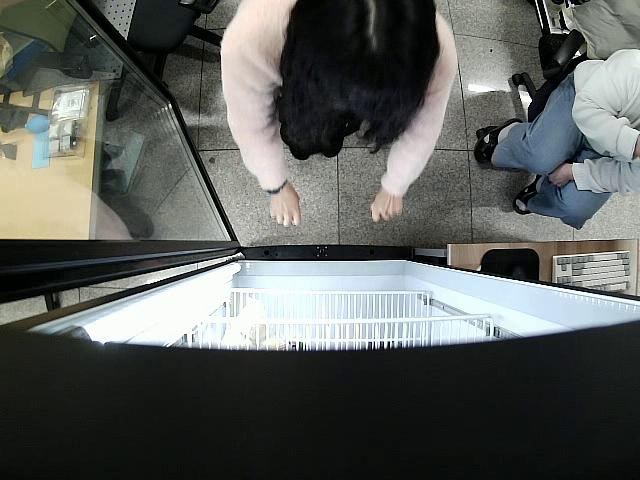00_hand: (369, 186, 403, 221), (269, 193, 301, 226)
